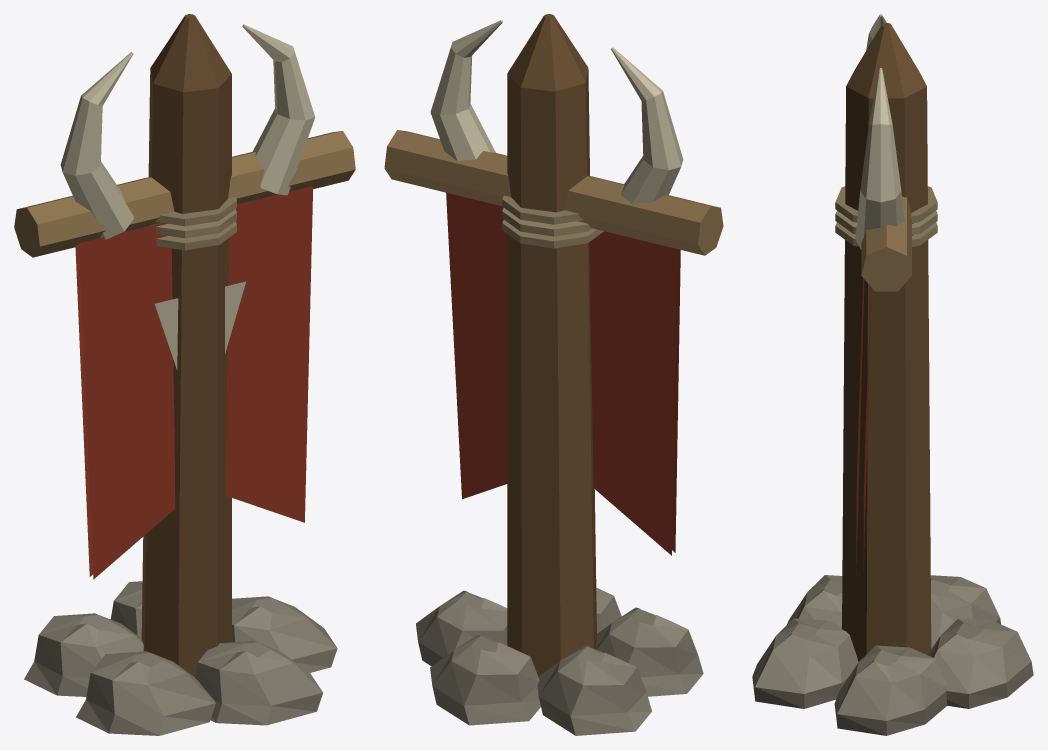
The model's file is trophy-standard.glb.
3 renders of one model, left to right at view 1: azimuth 30°, elevation 25°; view 2: azimuth 150°, elevation 25°; view 3: azimuth 270°, elevation 25°, orthographic. The views are drawn at different scales.
Parts seen in each view (by area): view 1: trophy-standard; view 2: trophy-standard; view 3: trophy-standard.
Boxes of the visible parts, x1,y1,x2,y2 form: trophy-standard: [14, 14, 355, 735]; trophy-standard: [384, 14, 723, 735]; trophy-standard: [752, 14, 1033, 735].
Size of the model in its own units: 1.24 by 2.48 by 0.9761.
